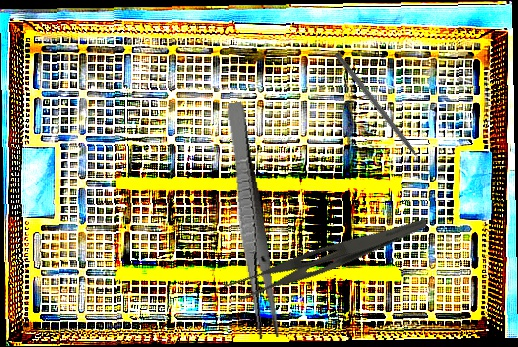Dressing Forceps: (222, 196, 428, 314), (220, 101, 282, 340)
Hook Surgical: (333, 51, 433, 176)
